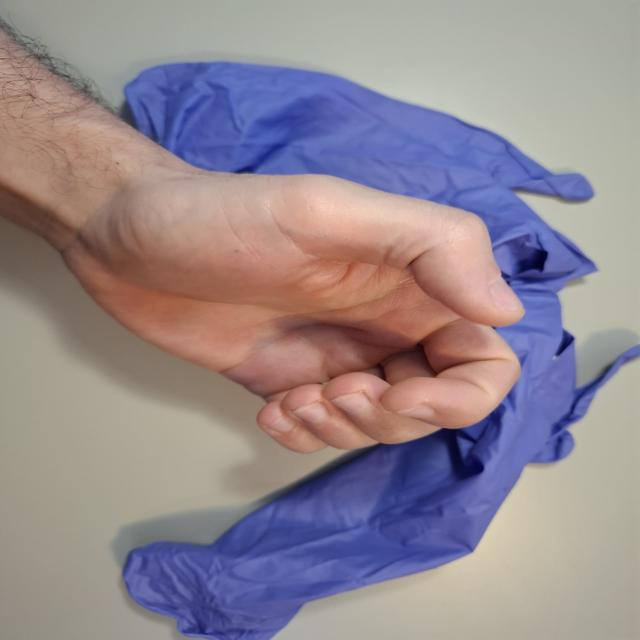glove_off: (44, 149, 532, 457)
